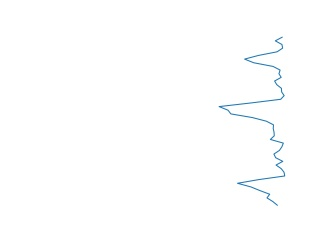underwaterNaturalLevee: (214, 35, 292, 207)
